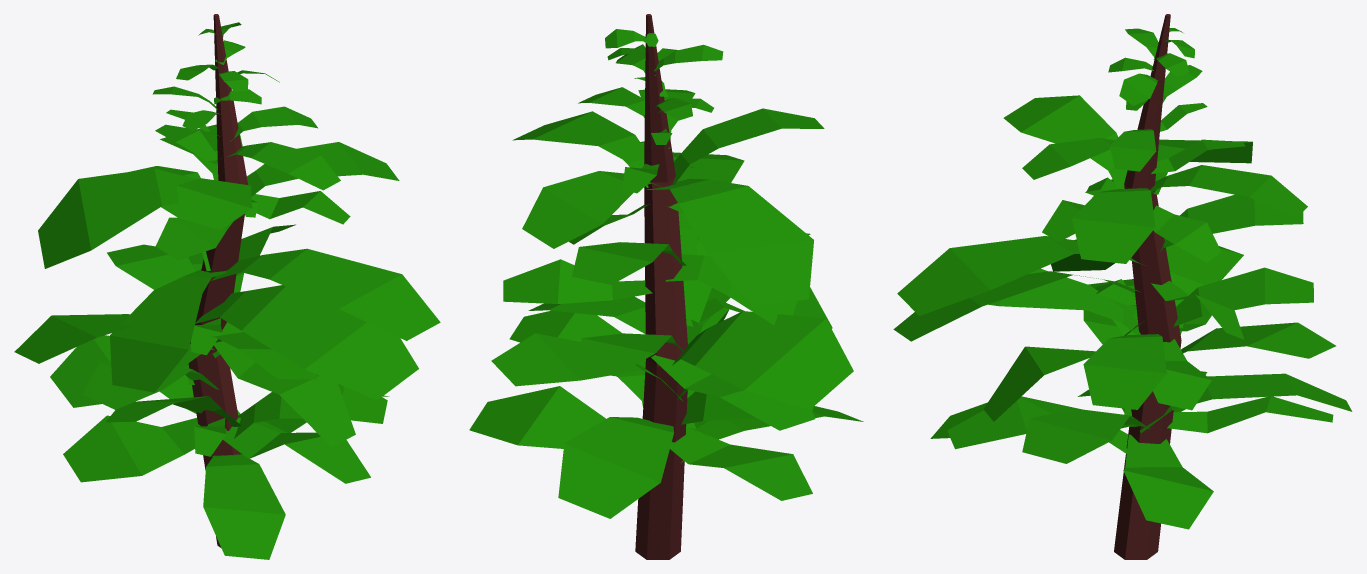
Rendered from DryTree.fbx.
3 views of the same model, side by side, from view 1: azimuth 30°, elevation 25°; view 2: azimuth 150°, elevation 25°; view 3: azimuth 270°, elevation 25° (orthographic). The views are drawn at different scales.
Visible parts, largest first — view 1: Leafs, Trunk; view 2: Leafs, Trunk; view 3: Leafs, Trunk.
Boxes of the visible parts, <box> form: Leafs: <box>14,22,440,559</box>; Trunk: <box>188,14,247,547</box>; Leafs: <box>469,29,863,518</box>; Trunk: <box>635,14,687,559</box>; Leafs: <box>893,28,1352,529</box>; Trunk: <box>1114,14,1181,559</box>.
Bounding box in the file's own units: 106 × 151 × 118.
